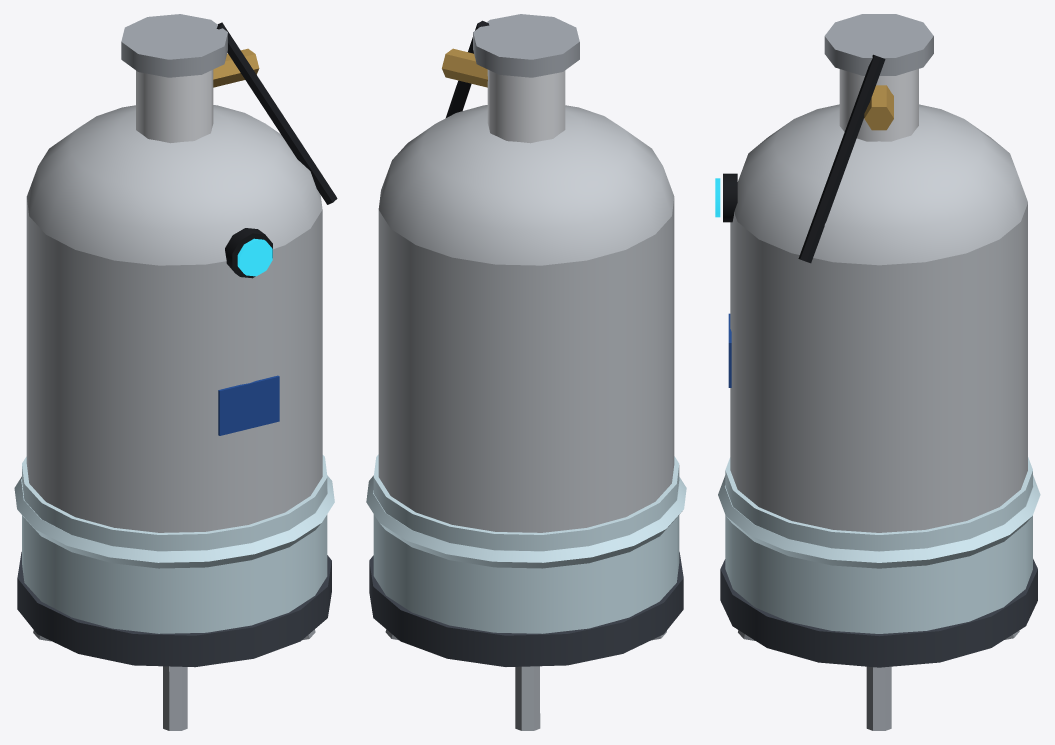
Rendered from barrel_cryo_flask.glb.
3 views of the same model, side by side, from view 1: azimuth 30°, elevation 25°; view 2: azimuth 150°, elevation 25°; view 3: azimuth 270°, elevation 25° (orthographic).
Parts seen in each view (by area): view 1: barrel_cryo_flask; view 2: barrel_cryo_flask; view 3: barrel_cryo_flask.
Boxes of the visible parts, x1,y1,x2,y2 form: barrel_cryo_flask: (14,14,337,730); barrel_cryo_flask: (366,14,686,730); barrel_cryo_flask: (715,14,1040,730).
Bounding box in the file's own units: 0.65 × 1.41 × 0.655.
